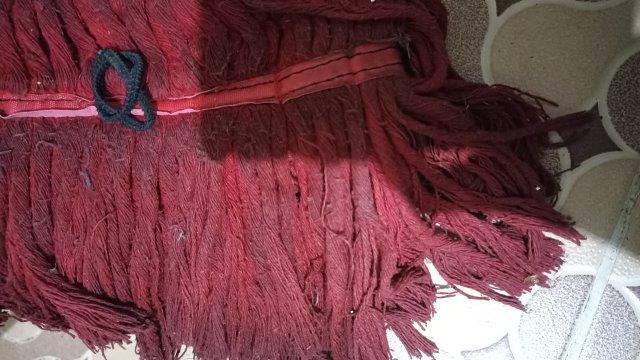karet: (92, 48, 156, 132)
